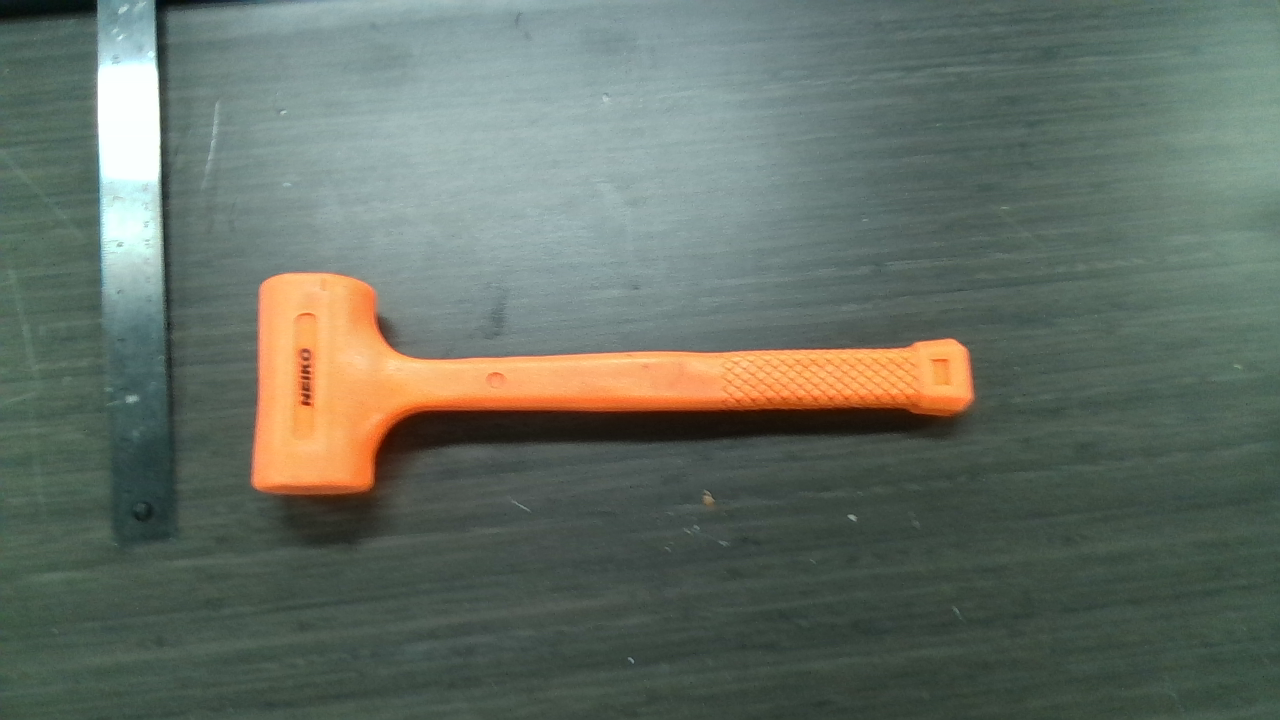Orange Hammer: (260, 275, 975, 493)
